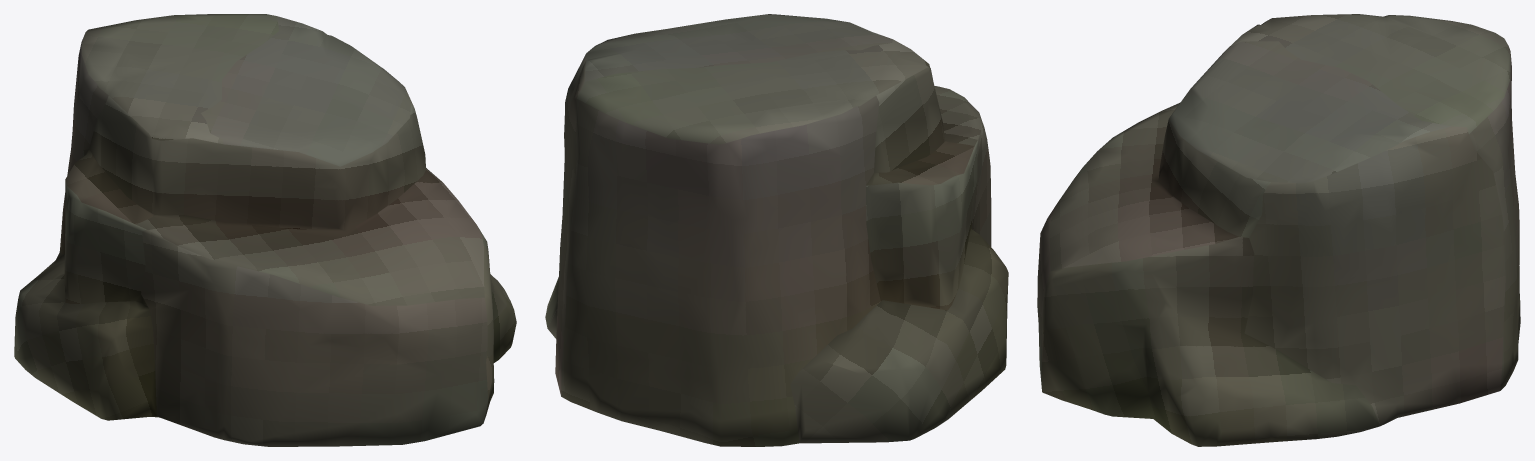
Rendered from SM_Rocks_Formation_03.FBX.
3 renders of one model, left to right at view 1: azimuth 30°, elevation 25°; view 2: azimuth 150°, elevation 25°; view 3: azimuth 270°, elevation 25°, orthographic. The views are drawn at different scales.
Visible parts, largest first — view 1: SM_Rocks_Formation_03_LOD0; view 2: SM_Rocks_Formation_03_LOD0; view 3: SM_Rocks_Formation_03_LOD0.
Boxes of the visible parts, left/top/right/bottom form: SM_Rocks_Formation_03_LOD0: left=14, top=14, right=516, bottom=446; SM_Rocks_Formation_03_LOD0: left=545, top=14, right=1008, bottom=446; SM_Rocks_Formation_03_LOD0: left=1037, top=14, right=1520, bottom=446.
Size of the model in its own units: 241 by 159 by 251.
